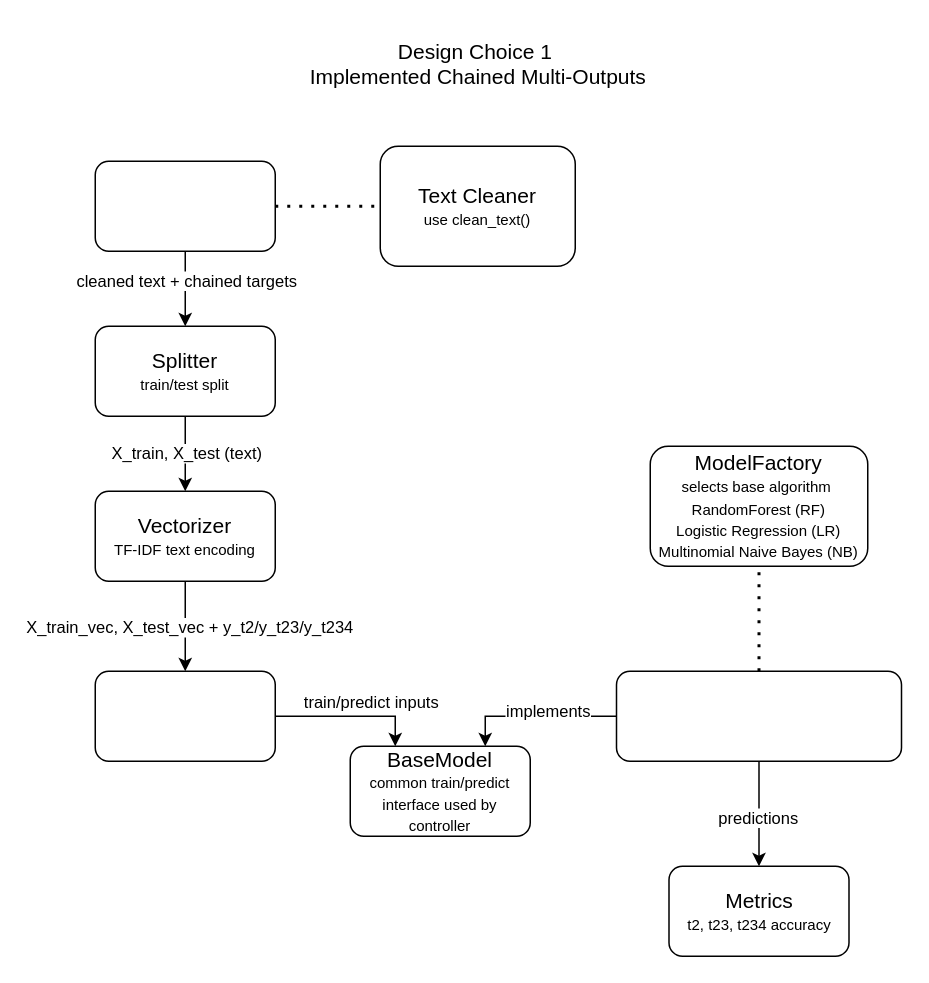
This 929x983 diagram has some shape labels left out. Each missing label, with the centre of its shape:
ChainedMultiOutputModel builds 3 chained estimators: t2, t23, t234: the point at 758,715
Data Loader load CSV, build chained targets: the point at 184,205
DatasetBundle shared X and y splits: the point at 184,715
